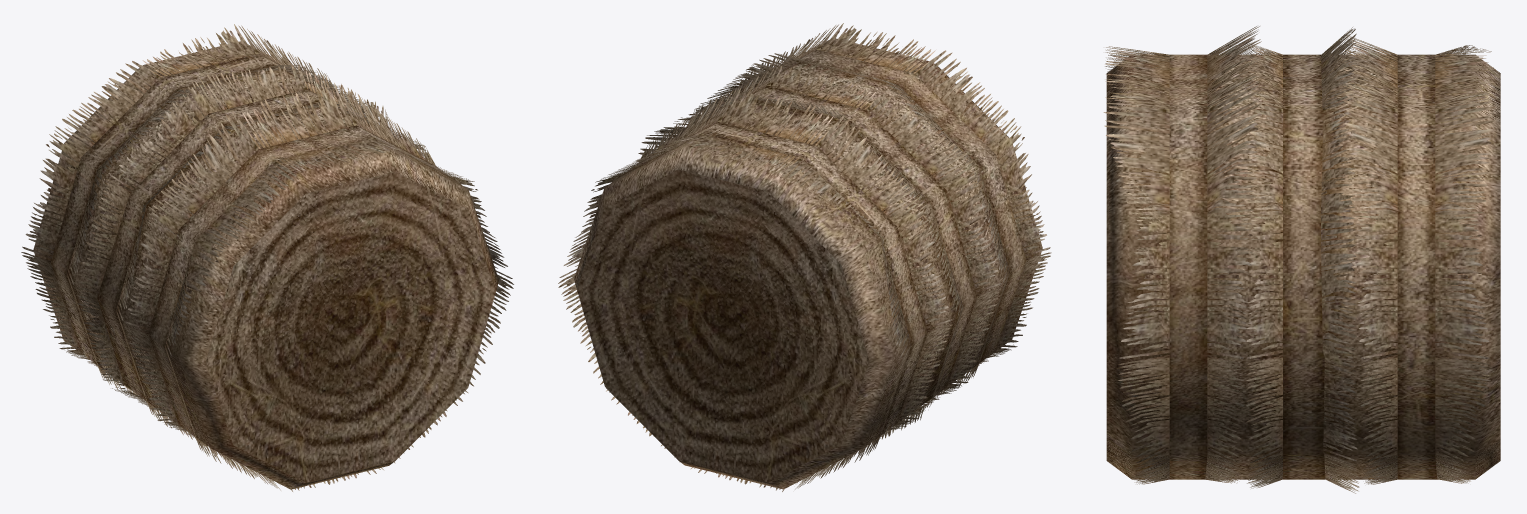
Rendered from hay_roll.glb.
The picture shows the model from 3 angles, left to right: view 1: azimuth 30°, elevation 25°; view 2: azimuth 150°, elevation 25°; view 3: azimuth 270°, elevation 25°; orthographic projection. The views are drawn at different scales.
Visible parts, largest first — view 1: Object_8; view 2: Object_8; view 3: Object_8.
Boxes of the visible parts, x1=… form: Object_8: x1=21, y1=24, x2=513, y2=491; Object_8: x1=558, y1=23, x2=1051, y2=491; Object_8: x1=1103, y1=26, x2=1500, y2=493.
Bounding box in the file's own units: 1.47 × 1.5 × 1.36.
Materials: 1 (1 with a texture image).
